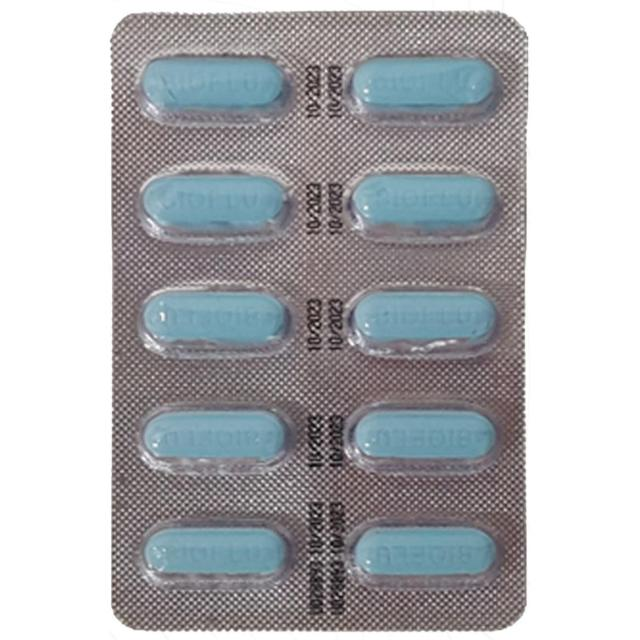blister: (105, 8, 530, 636)
